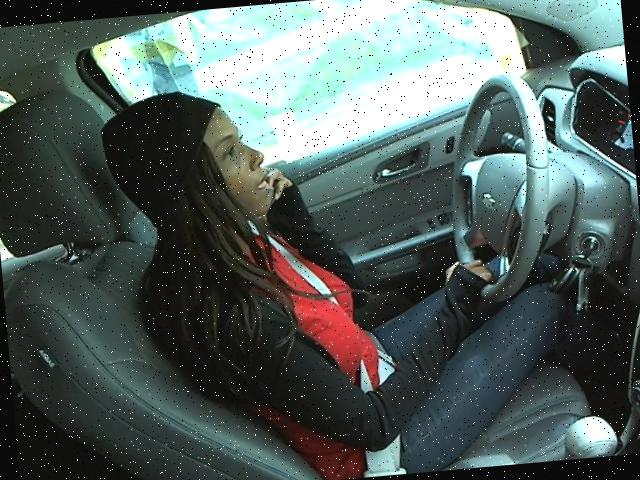c2 - Talking on the phone: (88, 41, 574, 453)
